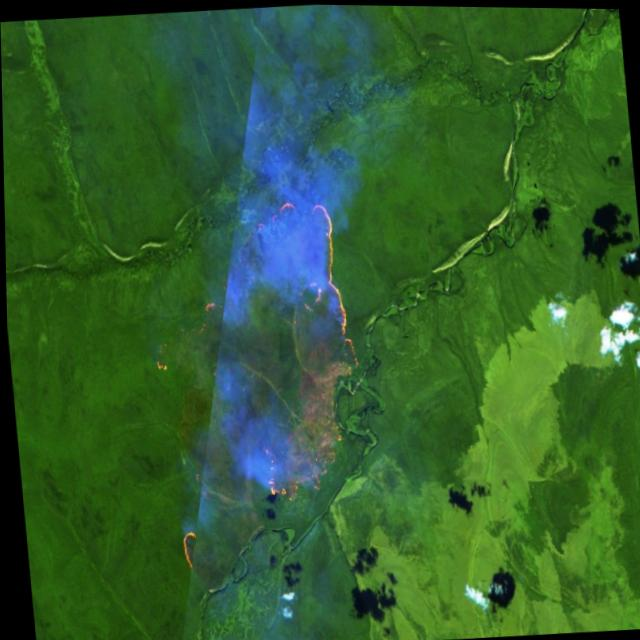fire: (249, 194, 352, 351), (249, 439, 295, 511), (169, 519, 202, 577)
